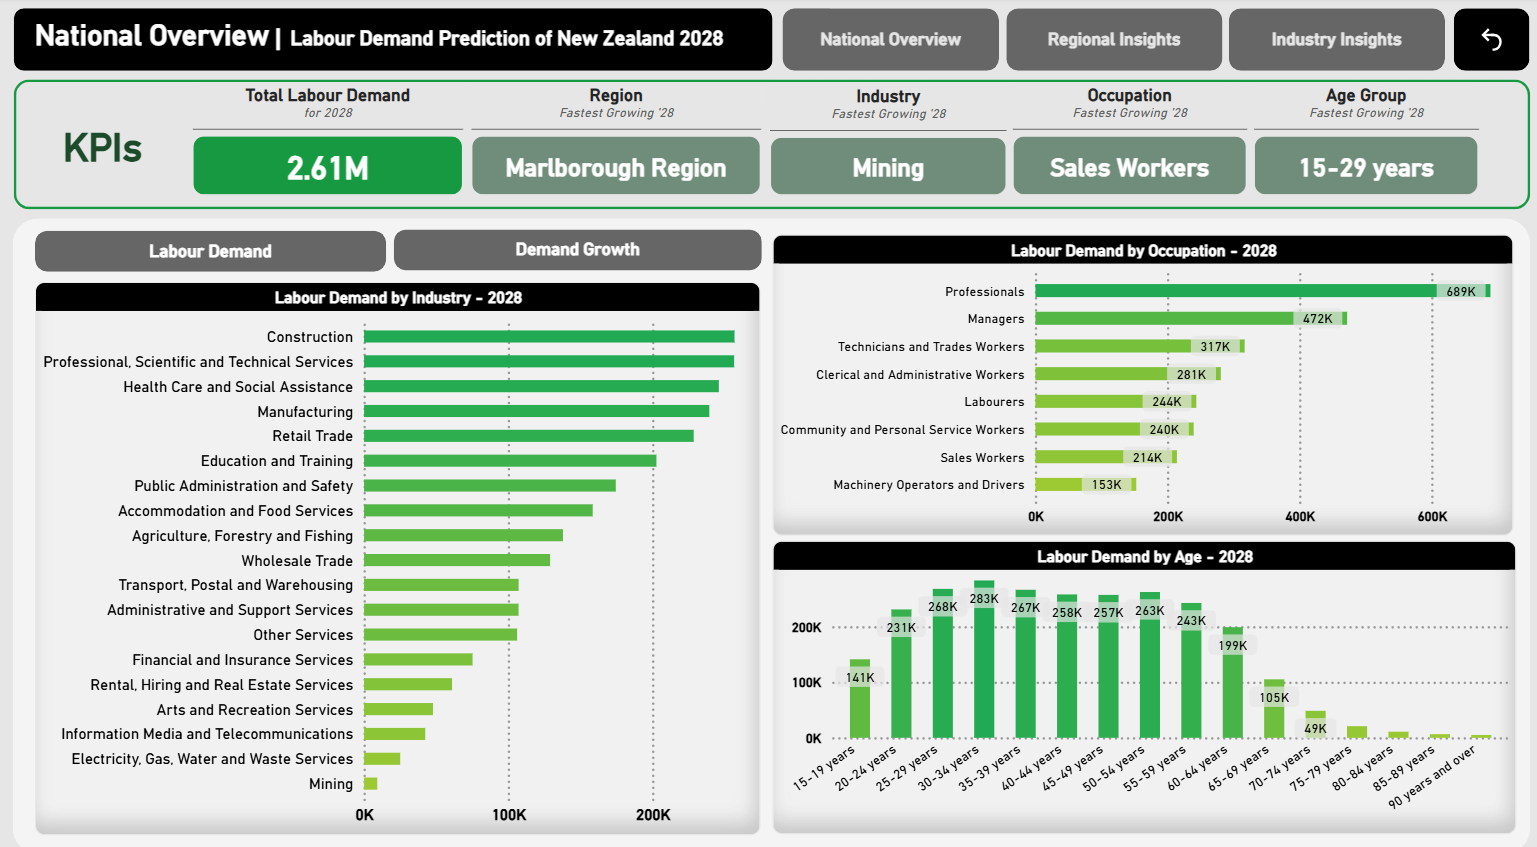

What the dashboard file says about the page in this screenshot:
{"tool":"powerbi","page":{"name":"National_Overview","canvas":[1280,720],"ordinal":0},"visuals":[{"type":"shape","box":[10.3,183.9,1261.9,528.4],"z":0},{"type":"shape","box":[11.5,68.7,1260.8,107.9],"z":1000},{"type":"shape","box":[11.4,9.4,630.8,52],"z":2000},{"type":"textbox","box":[29,18,588,33],"z":3000},{"type":"actionButton","box":[650.6,9.4,180,52],"z":4000},{"type":"actionButton","box":[836.6,9.4,179.8,52],"z":5000},{"type":"actionButton","box":[1021.8,9,179.8,52],"z":6000},{"type":"cardVisual","title":"Total Labour Demand","fields":{"Data":["Labour_demand_predictions_2028_Final_Output.Toal Labour Demand 2028"]},"box":[160,73,225,92],"z":7000},{"type":"cardVisual","title":"Occupation","fields":{"Data":["LabourPred2028.Fastest Growing Occupation"]},"box":[842,73,195,92],"z":8000},{"type":"cardVisual","title":"Region","fields":{"Data":["LabourPred2028.Fastest Growing Region"]},"box":[392,73,241,92],"z":9000},{"type":"cardVisual","title":"Industry","fields":{"Data":["LabourPred2028.Fastest Growing Industry"]},"box":[640,74,197,91],"z":10000},{"type":"cardVisual","title":"Age Group","fields":{"Data":["LabourPred2028.Fastest Growing Age Group"]},"box":[1042,73,187,92],"z":11000},{"type":"actionButton","box":[29,194,292,34],"z":15000},{"type":"actionButton","box":[327,193,306,34],"z":16000},{"type":"actionButton","box":[1209,9,63,52],"z":17000},{"type":"shape","box":[36,92,98,64],"z":18000},{"type":"waterfallChart","title":"Demand Change by Industry - 2028","fields":{"Category":["LabourPred2028.industry"],"Y":["LabourPred2028.Demand Change"]},"box":[29.5,238.5,603.8,459],"z":19000},{"type":"clusteredBarChart","title":"Regional Demand Change - 2028","fields":{"Category":["LabourPred2028.area"],"Y":["LabourPred2028.Demand Change"]},"box":[642.3,197.4,617.9,250],"z":20000},{"type":"treemap","title":"Demand Change by Age - 2028","fields":{"Group":["LabourPred2028.age"],"Values":["LabourPred2028.Demand Change"]},"box":[642.3,452.6,617.9,244.9],"z":21000}]}

Visuals, with their boxes in screenshot pixels (x1, y1, x2, y2), scaled from the page's 1280x720 canvas onto the 1537x847 screenshot:
shape: [12, 216, 1528, 838]
shape: [14, 81, 1528, 208]
shape: [14, 11, 771, 72]
textbox: [35, 21, 741, 60]
actionButton: [781, 11, 997, 72]
actionButton: [1005, 11, 1220, 72]
actionButton: [1227, 11, 1443, 72]
"Total Labour Demand" cardVisual: [192, 86, 462, 194]
"Occupation" cardVisual: [1011, 86, 1245, 194]
"Region" cardVisual: [471, 86, 760, 194]
"Industry" cardVisual: [768, 87, 1005, 194]
"Age Group" cardVisual: [1251, 86, 1476, 194]
actionButton: [35, 228, 385, 268]
actionButton: [393, 227, 760, 267]
actionButton: [1452, 11, 1527, 72]
shape: [43, 108, 161, 184]
"Demand Change by Industry - 2028" waterfallChart: [35, 281, 760, 821]
"Regional Demand Change - 2028" clusteredBarChart: [771, 232, 1513, 526]
"Demand Change by Age - 2028" treemap: [771, 532, 1513, 821]
